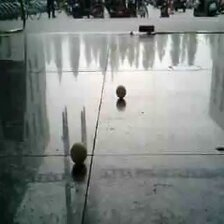w: (70, 142, 88, 164), (115, 84, 127, 98)
